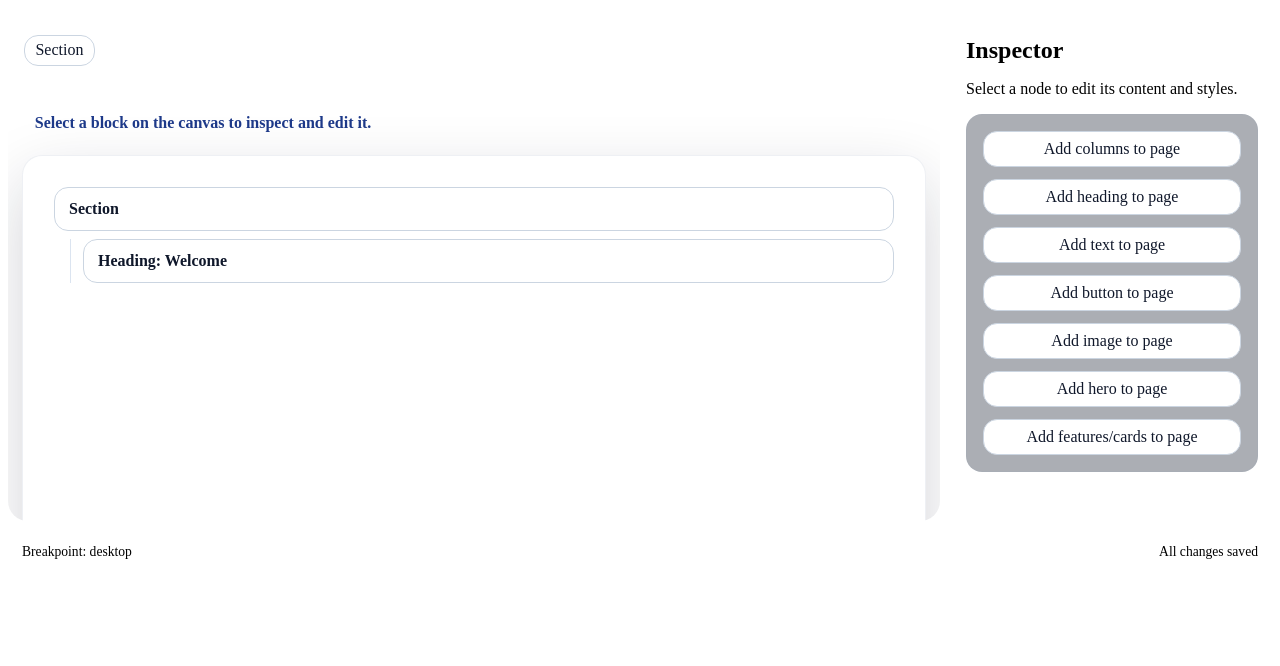
Test: editor shell flow › shows the selected block name and marks the node as selected
What coordinates should you click on to do the following:
click the button "Heading: Welcome"
I would click on:
 (163, 260)
Its box is [83,239,894,283].
(page scrolled)
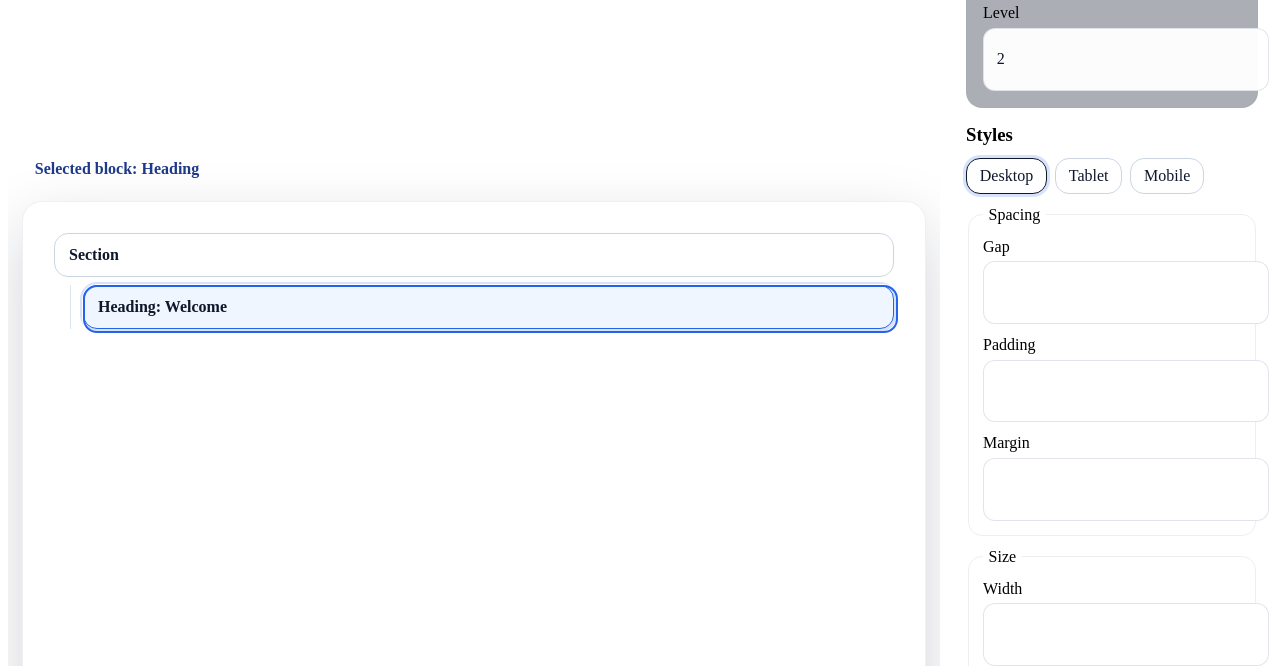
Check: the text "Selected block: Heading" is shown, box [35,160,199,177]
